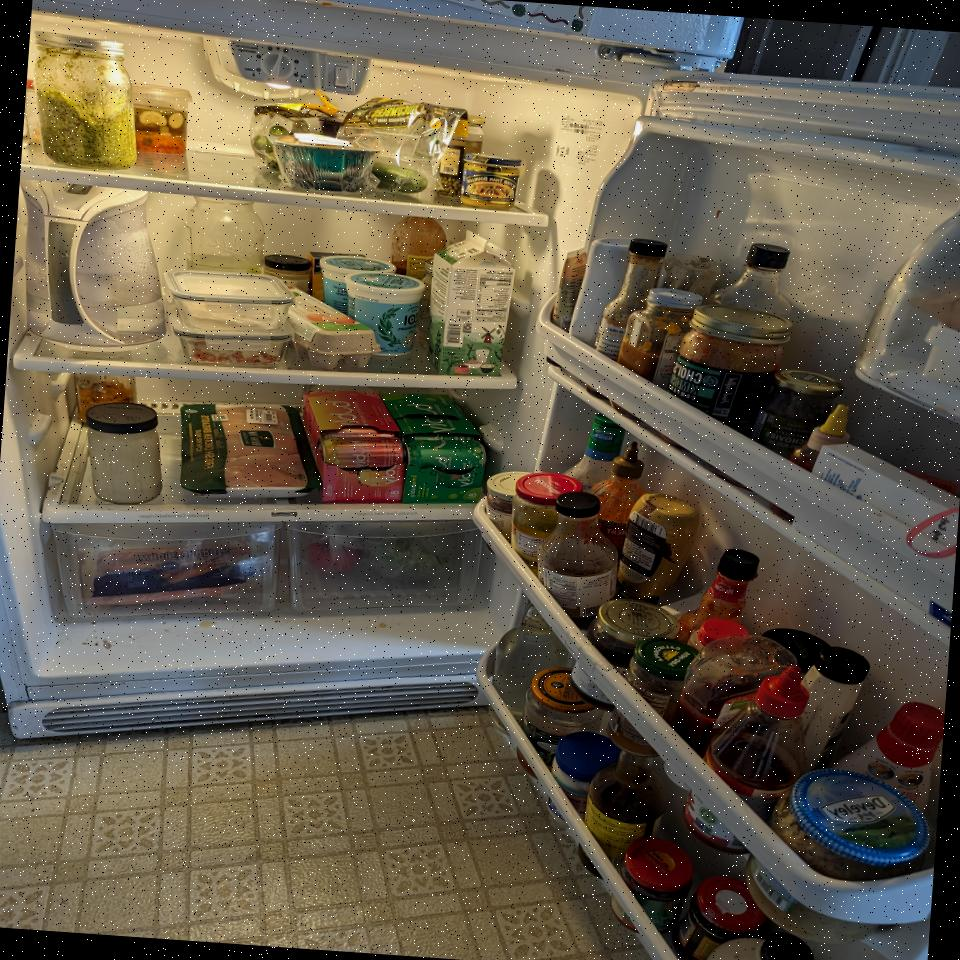Carne pollo: (174, 398, 327, 506)
Huevos: (280, 285, 386, 374)
Pepino: (370, 162, 430, 194)
Tomate: (306, 539, 361, 575)
Yogur: (338, 270, 426, 360), (314, 254, 396, 320)
Zanahoria: (92, 534, 251, 618)
